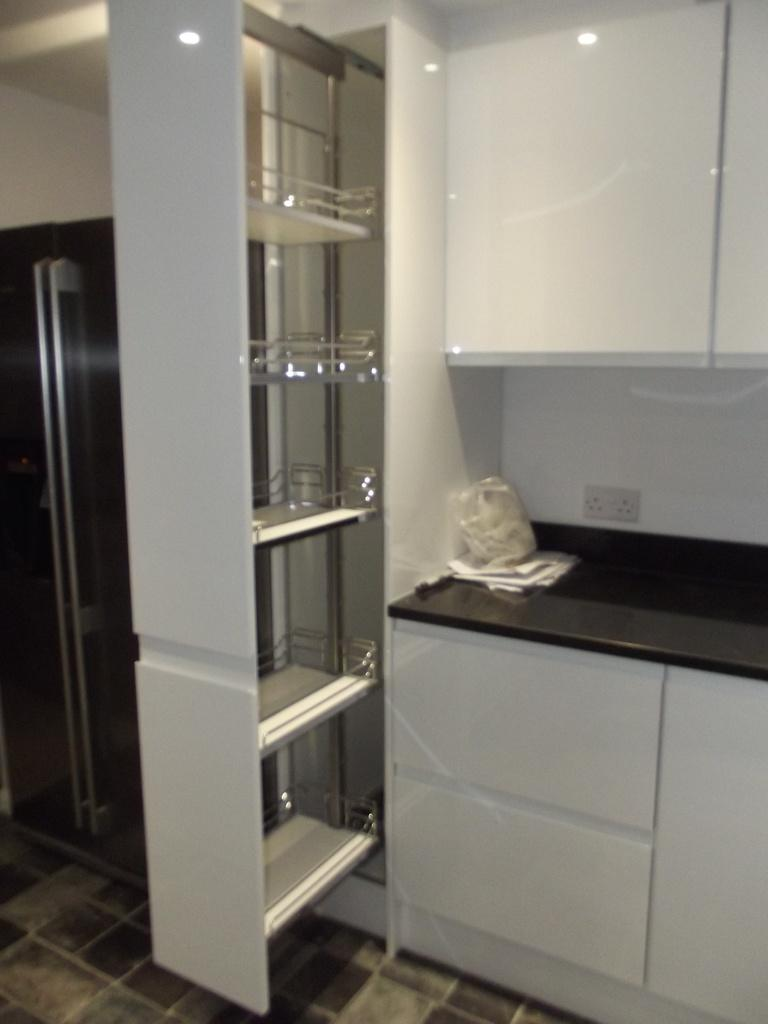cabinet_door: (116, 46, 258, 638), (398, 772, 652, 990), (392, 632, 666, 826), (135, 652, 268, 1002)
handle: (18, 252, 80, 822), (49, 263, 105, 846), (138, 632, 260, 690)
